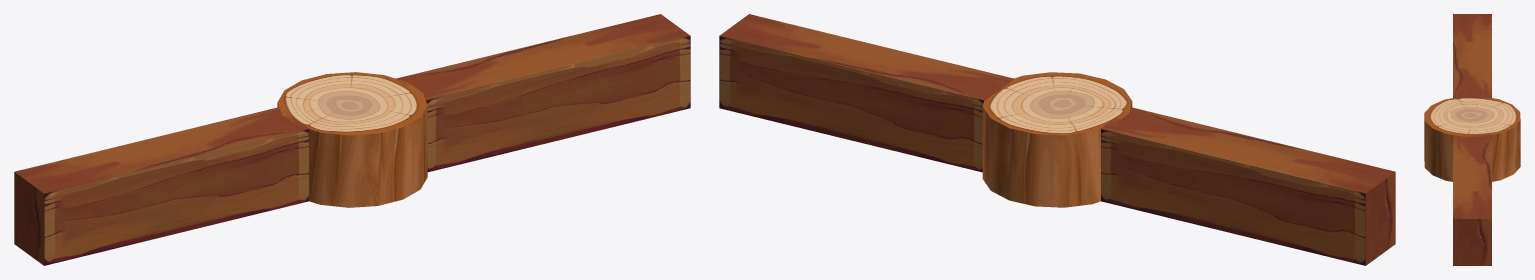
The model's file is two_blade_wood_02.fbx.
3 views of the same model, side by side, from view 1: azimuth 30°, elevation 25°; view 2: azimuth 150°, elevation 25°; view 3: azimuth 270°, elevation 25° (orthographic). The views are drawn at different scales.
Visible parts, largest first — view 1: Blade_82, Blade_81, wood_center_3; view 2: Blade_82, Blade_81, wood_center_3; view 3: wood_center_3, Blade_81, Blade_82.
Boxes of the visible parts, x1,y1,x2,y2 form: Blade_82: [14, 107, 309, 265]; Blade_81: [396, 14, 690, 172]; wood_center_3: [277, 72, 427, 207]; Blade_82: [1100, 107, 1395, 265]; Blade_81: [719, 14, 1014, 172]; wood_center_3: [982, 72, 1132, 207]; wood_center_3: [1424, 98, 1520, 181]; Blade_81: [1453, 134, 1491, 265]; Blade_82: [1453, 14, 1491, 98].
Size of the model in its own units: 374 by 40 by 74.15.
